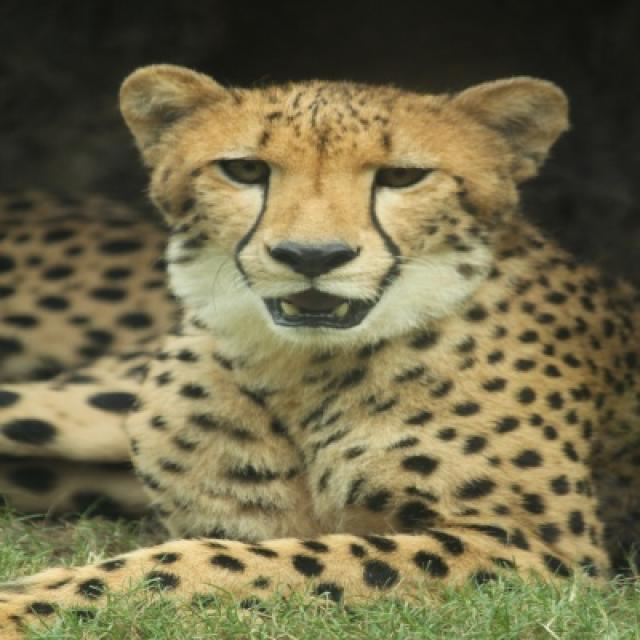Cheetah: (0, 54, 638, 638)
